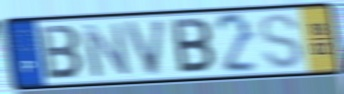2: (213, 10, 263, 78)
B: (37, 24, 86, 81), (170, 17, 217, 76)
N: (79, 21, 134, 80)
S: (258, 12, 305, 71)
V: (122, 17, 170, 78)
